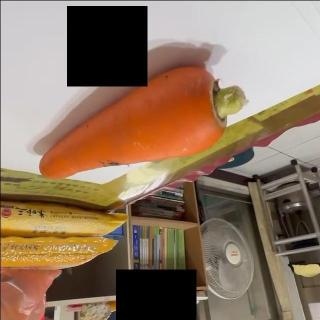carrot: (39, 64, 246, 180)
